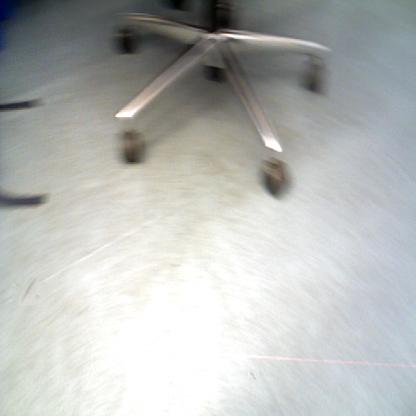mark: (16, 279, 39, 303), (249, 370, 259, 381)
